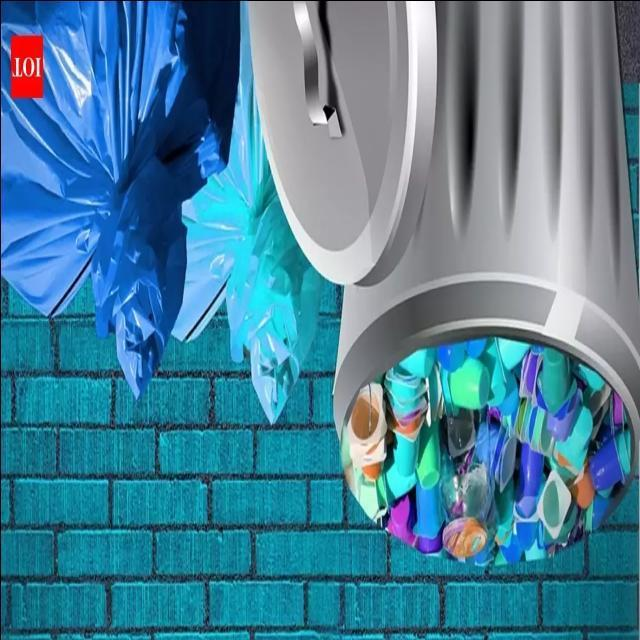Garbage: (341, 337, 630, 564)
Plastic: (341, 337, 630, 567)
